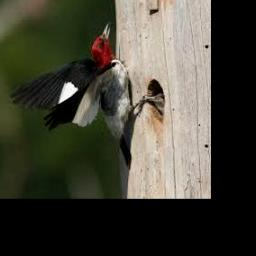Woodpecker: (12, 22, 163, 169)
